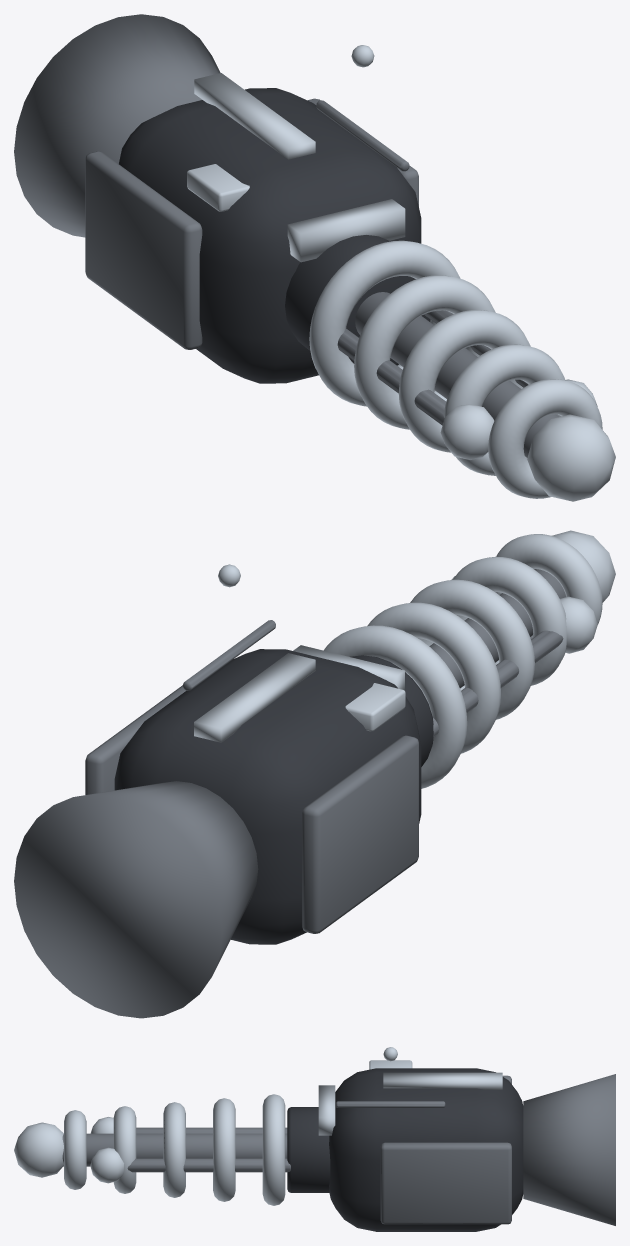
File: weapon_drone_ion_coil.glb
3 renders of one model, top to bottom at view 1: azimuth 30°, elevation 25°; view 2: azimuth 150°, elevation 25°; view 3: azimuth 270°, elevation 25°, orthographic. The views are drawn at different scales.
Visible parts, largest first — view 1: weapon_drone_ion_coil; view 2: weapon_drone_ion_coil; view 3: weapon_drone_ion_coil.
Part boxes in pixels (x1=…): weapon_drone_ion_coil: x1=14, y1=14, x2=615, y2=501; weapon_drone_ion_coil: x1=14, y1=530, x2=615, y2=1018; weapon_drone_ion_coil: x1=14, y1=1047, x2=615, y2=1231.
Size of the model in its own units: 0.5184 by 0.64 by 1.82.
